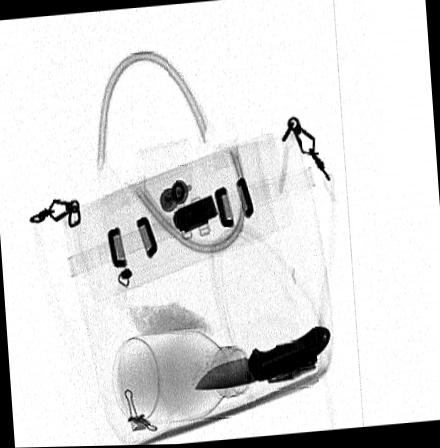Knife: (193, 325, 332, 390)
